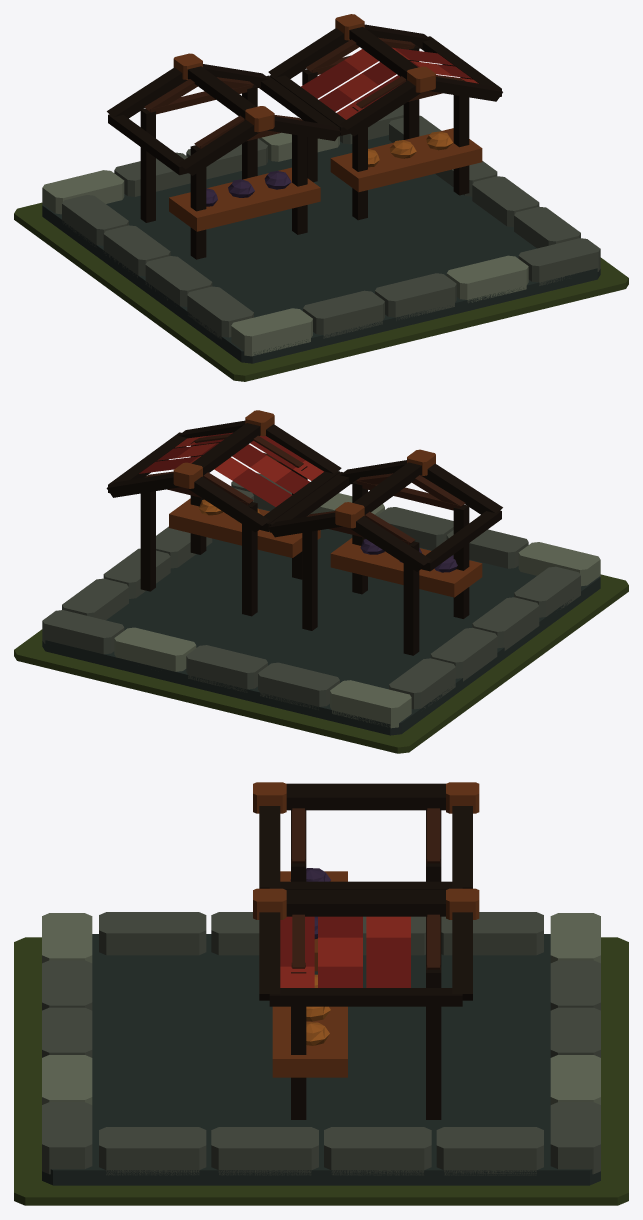
The model's file is market_t2.glb.
The picture shows the model from 3 angles, top to bottom: view 1: azimuth 30°, elevation 25°; view 2: azimuth 150°, elevation 25°; view 3: azimuth 270°, elevation 25°; orthographic projection. The views are drawn at different scales.
Parts seen in each view (by area): view 1: MMR | market | T02 Architecture.001, MMR | market | Tier 02 Ground.001; view 2: MMR | market | T02 Architecture.001, MMR | market | Tier 02 Ground.001; view 3: MMR | market | T02 Architecture.001, MMR | market | Tier 02 Ground.001.
Part boxes in pixels (left/top/right/bottom): MMR | market | T02 Architecture.001: left=42, top=14, right=600, bottom=363; MMR | market | Tier 02 Ground.001: left=14, top=202, right=628, bottom=381; MMR | market | T02 Architecture.001: left=42, top=410, right=600, bottom=735; MMR | market | Tier 02 Ground.001: left=14, top=574, right=628, bottom=753; MMR | market | T02 Architecture.001: left=42, top=782, right=600, bottom=1185; MMR | market | Tier 02 Ground.001: left=14, top=937, right=628, bottom=1205.
Size of the model in its own units: 3.3 by 1.39 by 3.3.
1 material, 1 textured.
